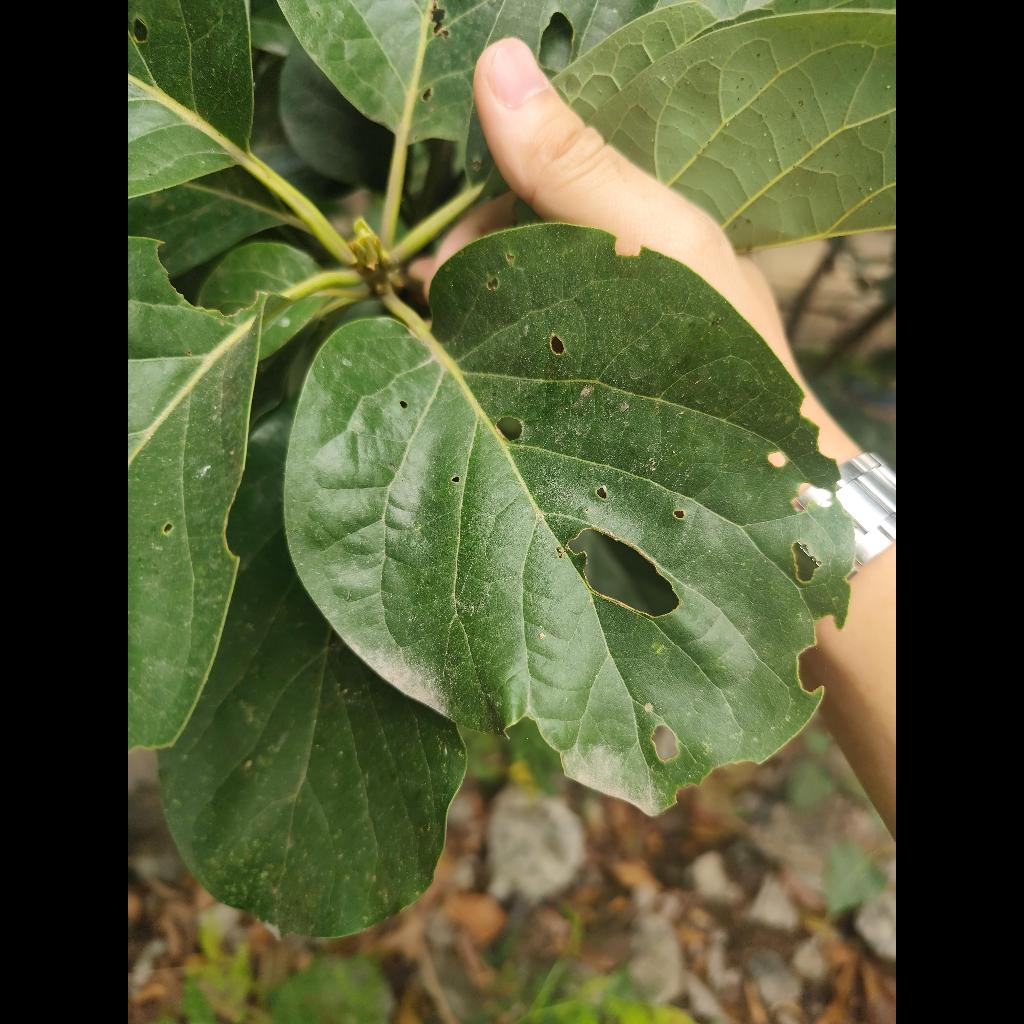Pest Infested: (286, 225, 849, 813)
